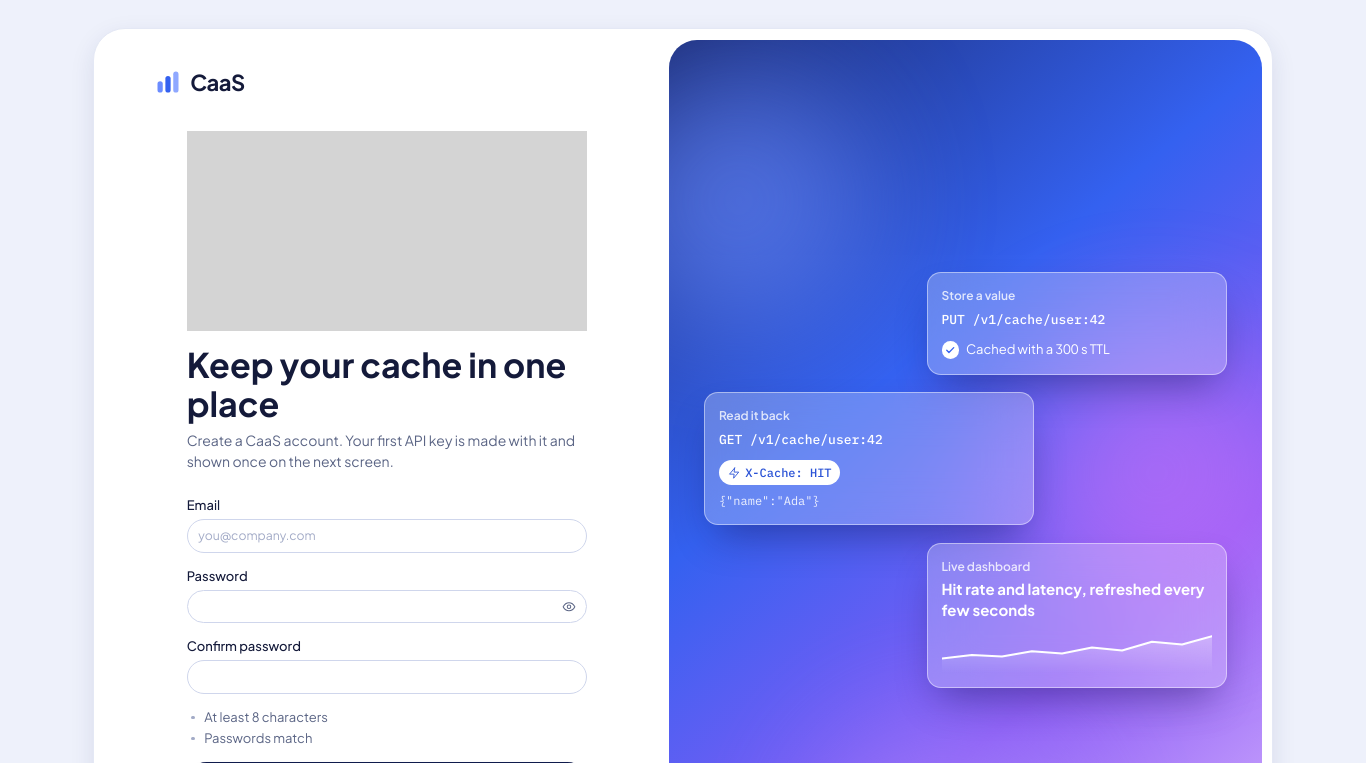
Test: Signup › shows validation for short password
Step 1. Type "a@b.com" into the field labelled "Email" → (387, 536), box [187,519,587,553]
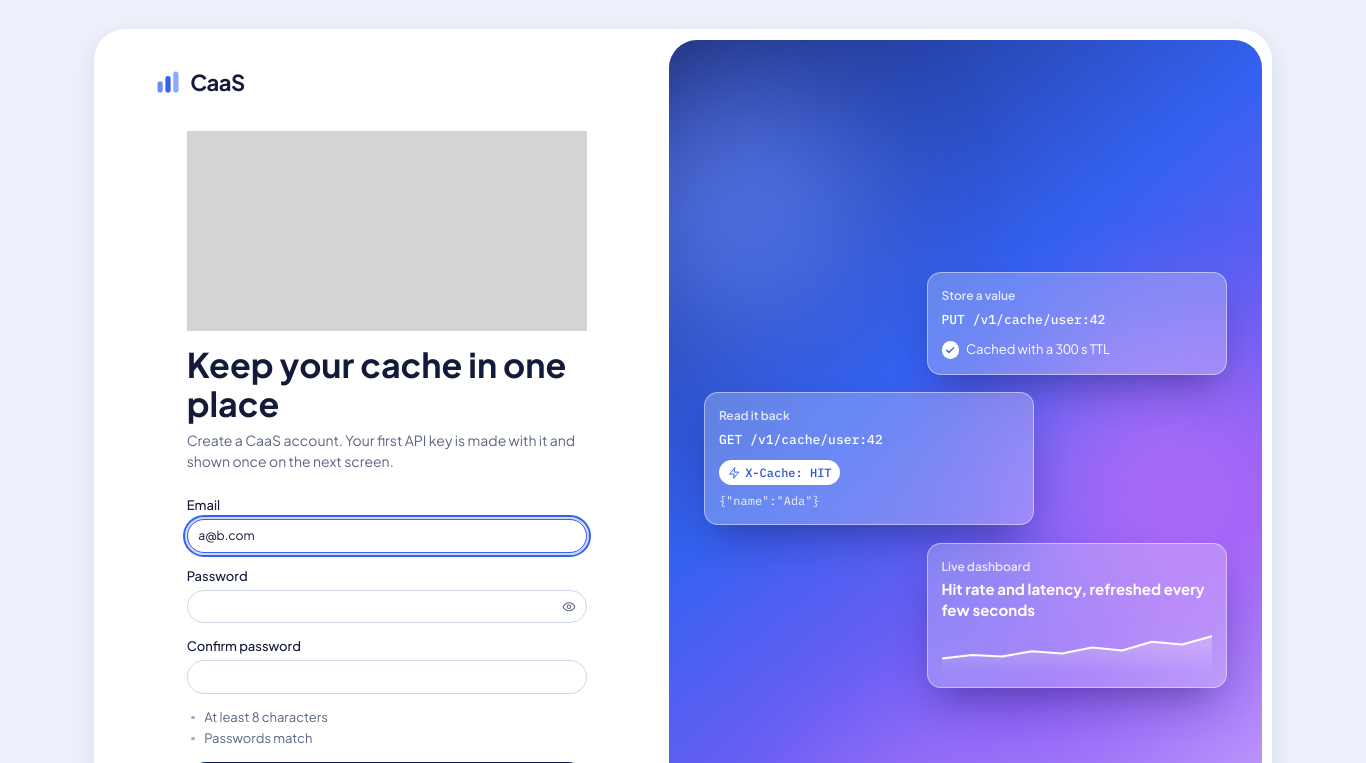
Step 2. Type "short" into the password field labelled "Password" → (387, 606), box [187,590,587,623]
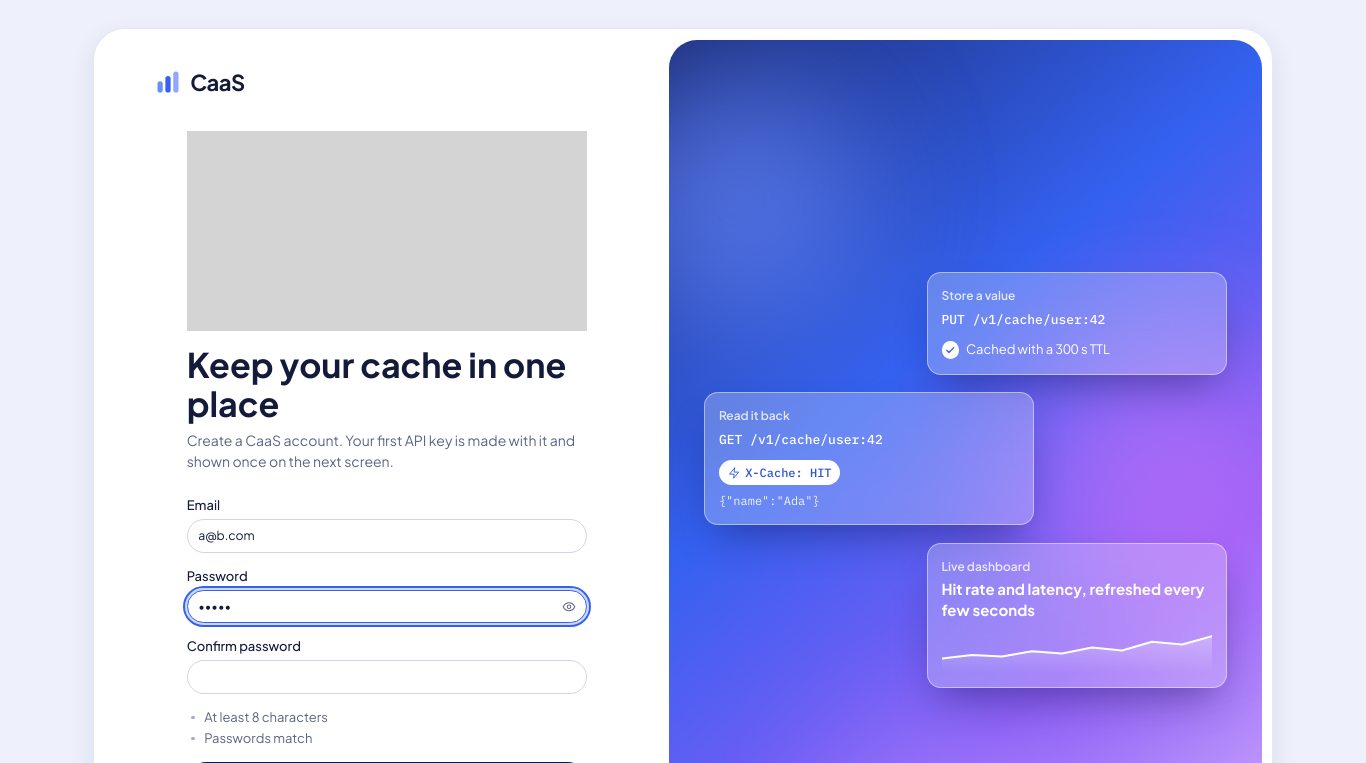
Step 3. Type "short" into the password field labelled "Confirm password" → (387, 677), box [187,660,587,694]
(page scrolled)
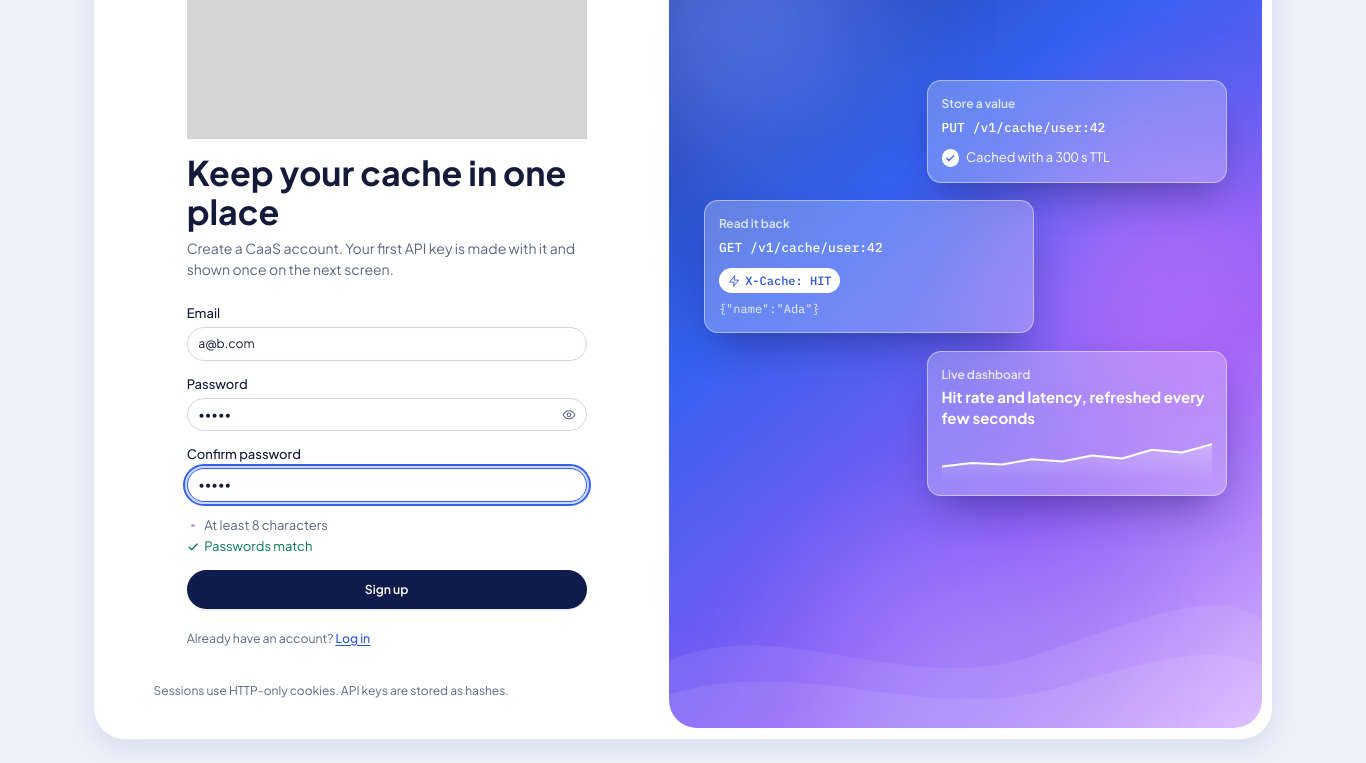
Step 4. Click the button "Sign up" → (387, 590), box [187,570,587,609]
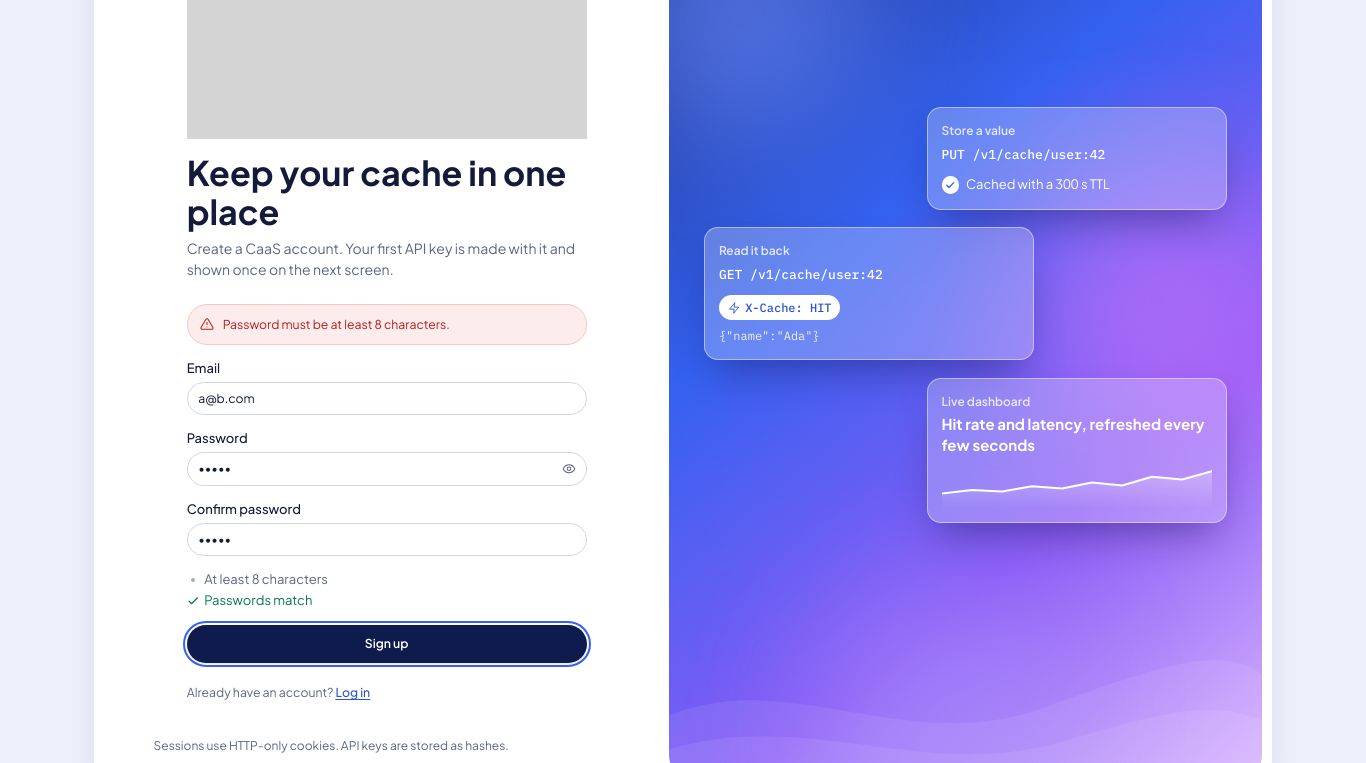
Now the message shows "at least 8", box [223,316,450,332]
